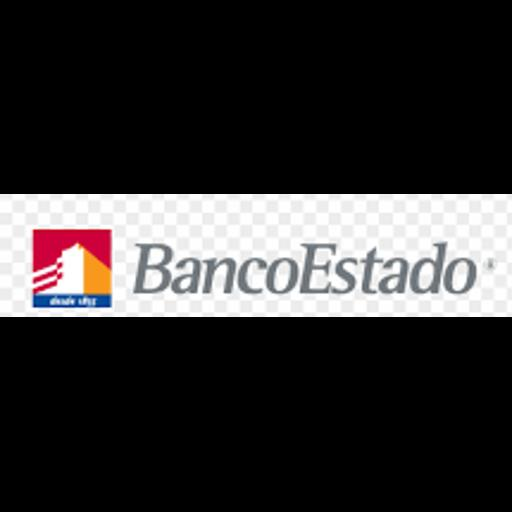Banco del Estado de Chile: (0, 194, 512, 317)
